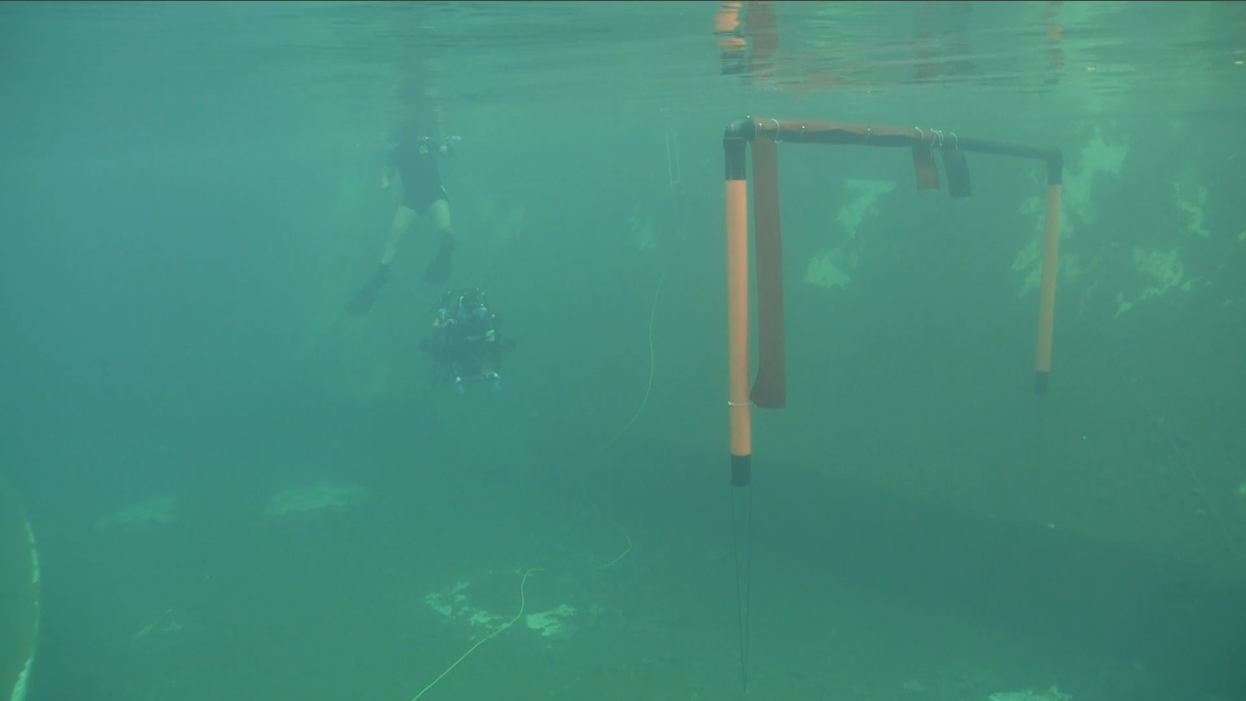gate: (713, 104, 1069, 479)
